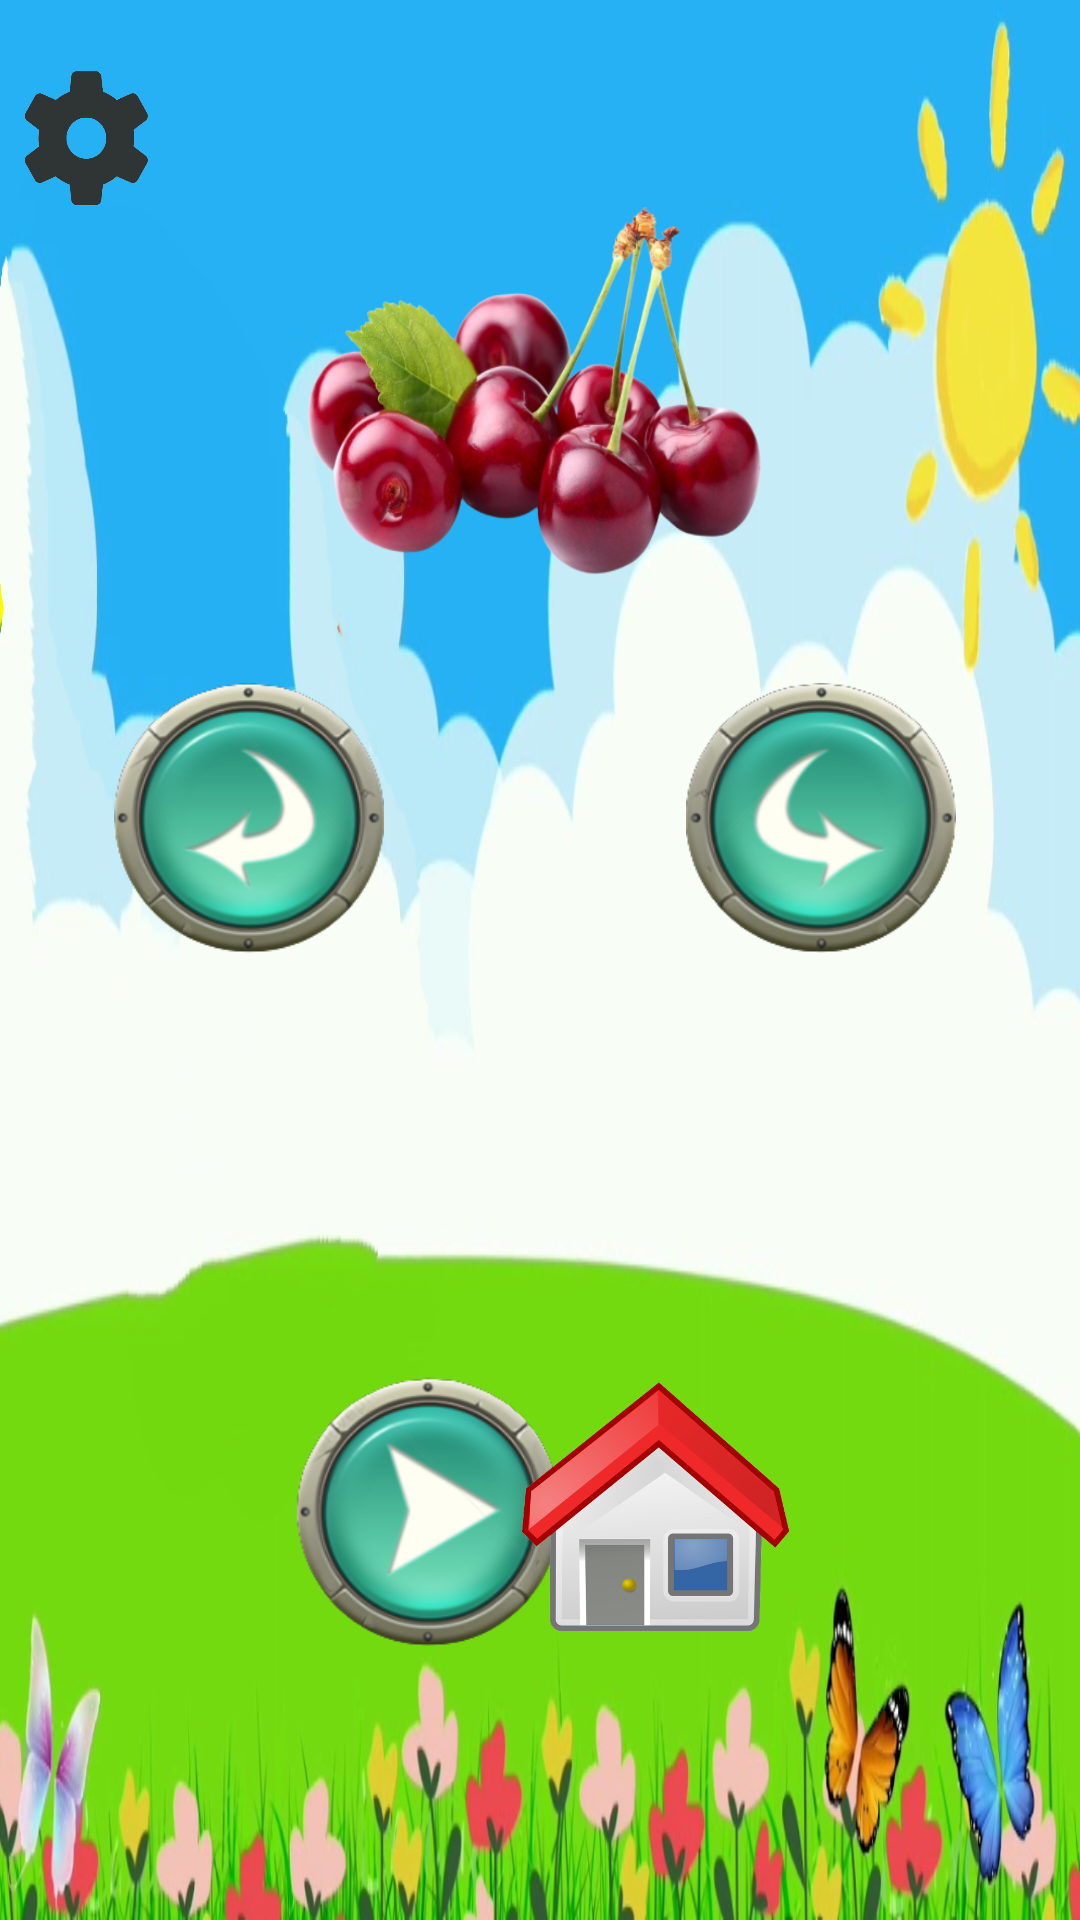

Icon click points for this 1080px×1920px phone screenshot, format (x=x, y=y):
back: (x=249, y=818)
home: (x=655, y=1506)
next: (x=821, y=817)
play: (x=430, y=1512)
setting: (x=86, y=138)
